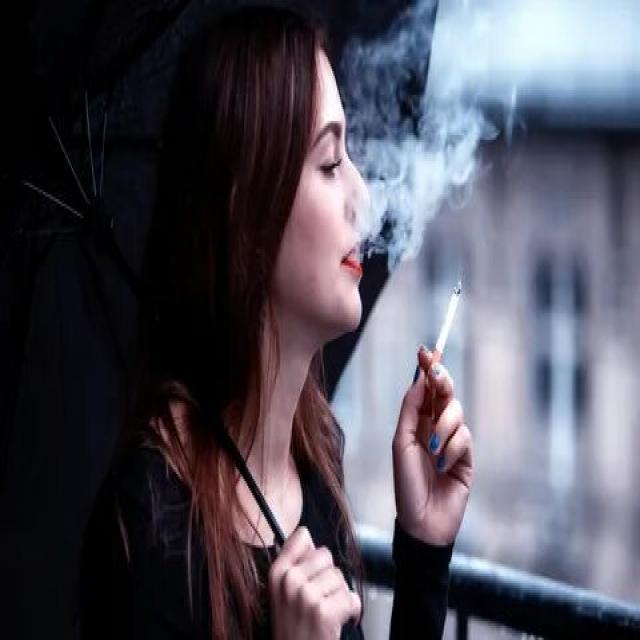smoke: (424, 280, 464, 377)
